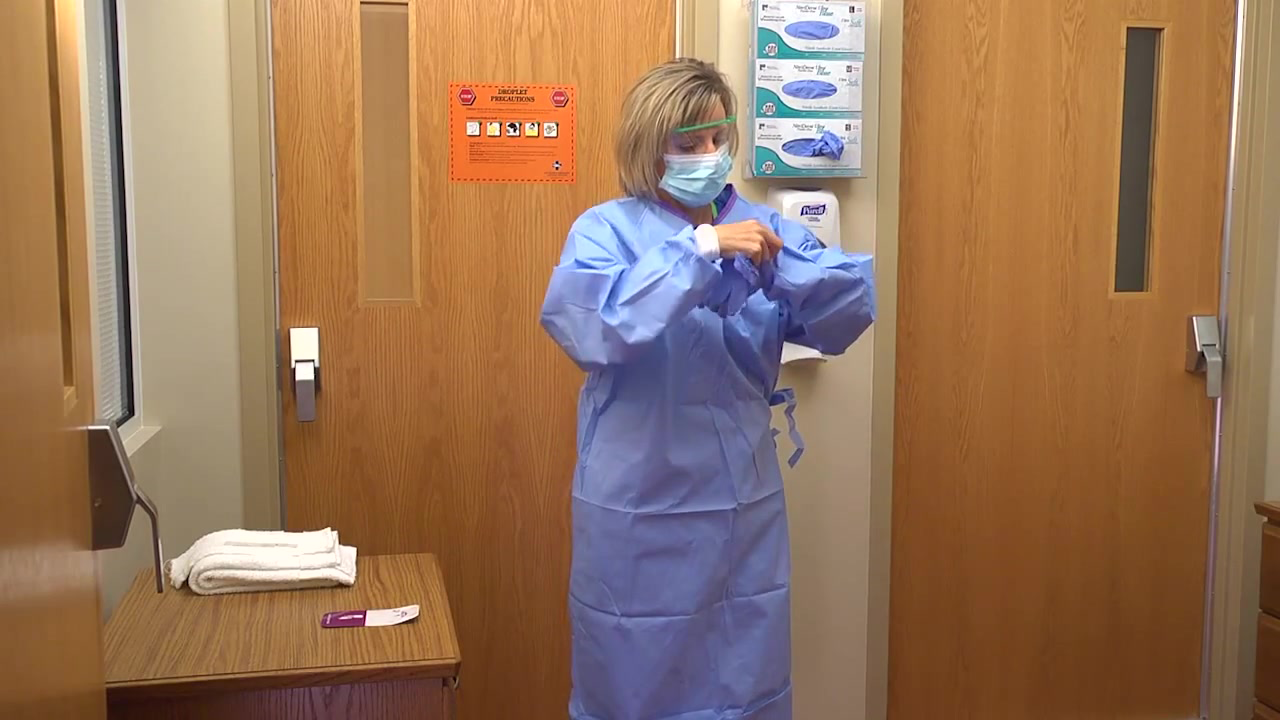Coverall: (549, 186, 852, 720)
Face_Shield: (653, 105, 744, 208)
with_mask: (668, 155, 739, 208)
